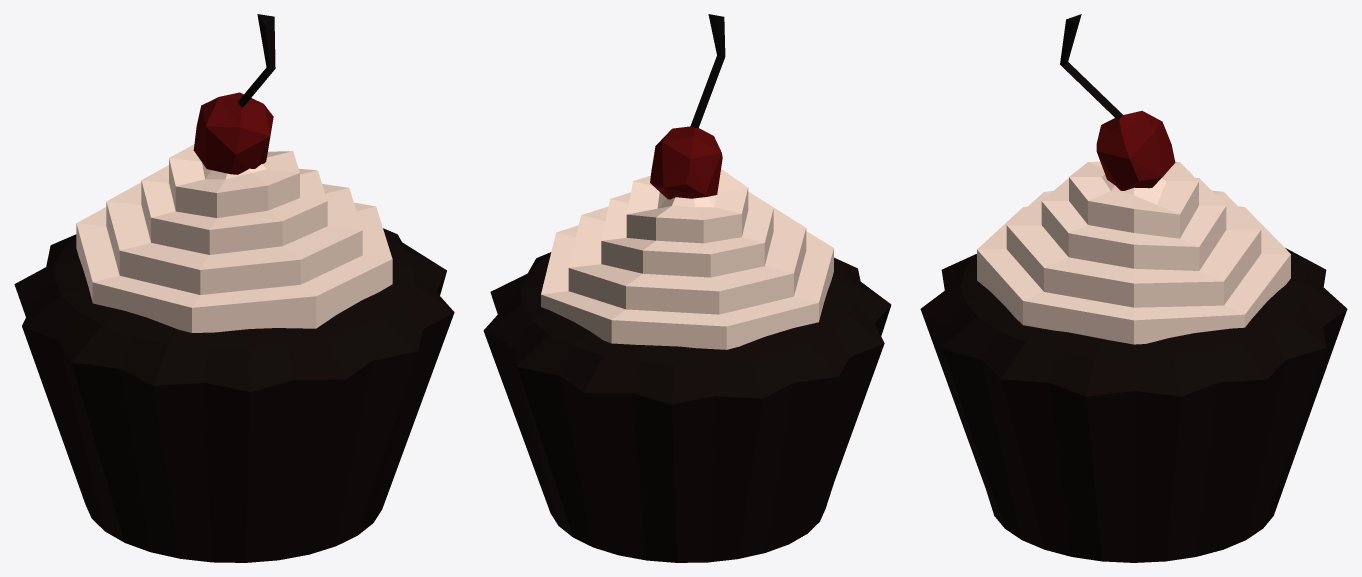
Rendered from Cupcake_Chocolate.FBX.
The picture shows the model from 3 angles, left to right: view 1: azimuth 30°, elevation 25°; view 2: azimuth 150°, elevation 25°; view 3: azimuth 270°, elevation 25°; orthographic projection. The views are drawn at different scales.
Parts seen in each view (by area): view 1: Cylinder001, Cylinder002, GeoSphere001; view 2: Cylinder001, Cylinder002, GeoSphere001; view 3: Cylinder001, Cylinder002, GeoSphere001.
Boxes of the visible parts, x1=… form: Cylinder001: x1=14, y1=228, x2=454, y2=562; Cylinder002: x1=76, y1=144, x2=392, y2=332; GeoSphere001: x1=193, y1=14, x2=275, y2=174; Cylinder001: x1=483, y1=252, x2=891, y2=562; Cylinder002: x1=541, y1=169, x2=833, y2=349; GeoSphere001: x1=650, y1=14, x2=725, y2=199; Cylinder001: x1=920, y1=248, x2=1347, y2=562; Cylinder002: x1=977, y1=161, x2=1290, y2=344; GeoSphere001: x1=1060, y1=14, x2=1175, y2=190.
Size of the model in its own units: 77.99 by 80 by 101.
